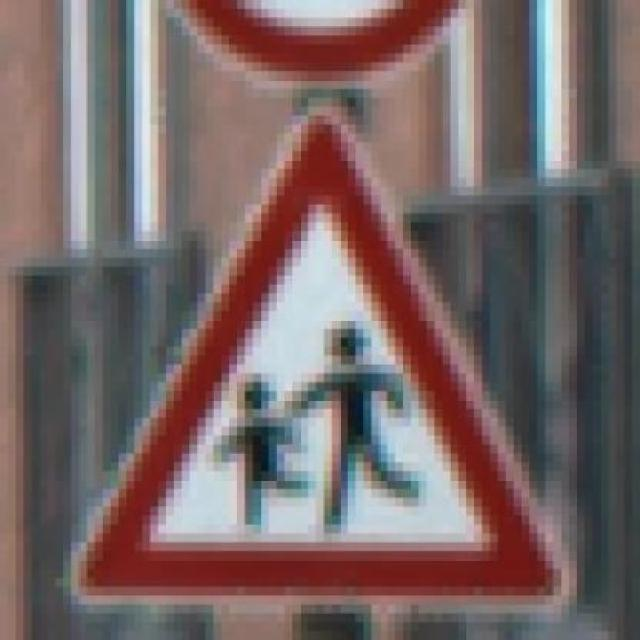Beware of children: (63, 116, 577, 604)
